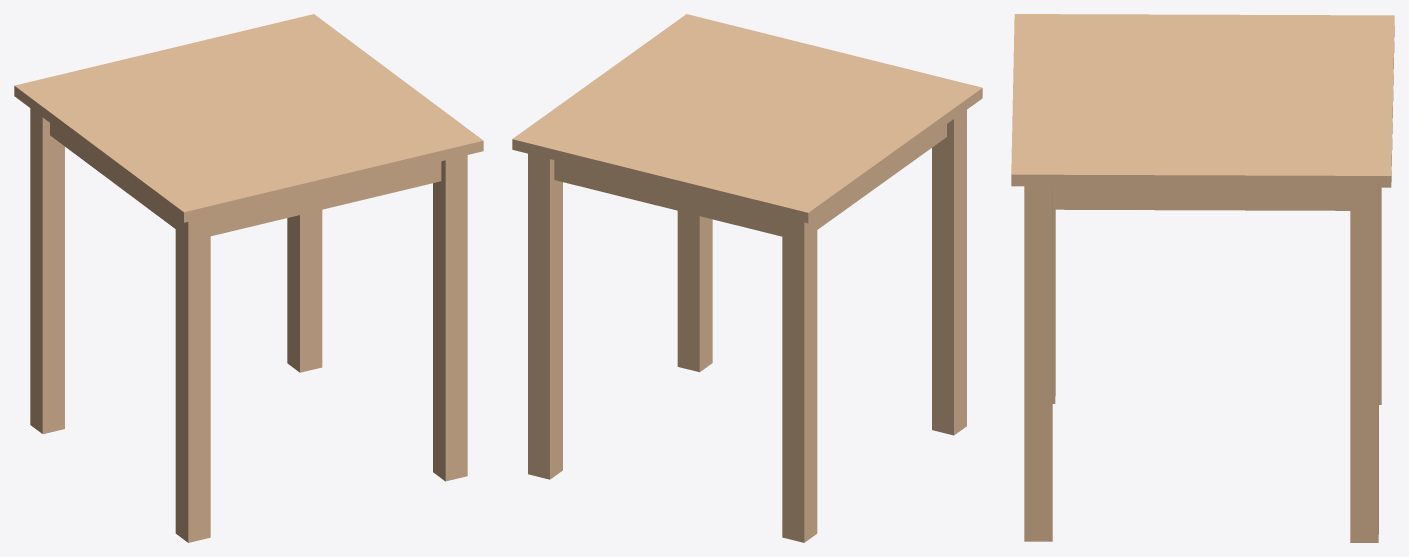
The model's file is DeskT-1.fbx.
The picture shows the model from 3 angles, left to right: view 1: azimuth 30°, elevation 25°; view 2: azimuth 150°, elevation 25°; view 3: azimuth 270°, elevation 25°; orthographic projection. The views are drawn at different scales.
Visible parts, largest first — view 1: Cube.025; view 2: Cube.025; view 3: Cube.025.
Part boxes in pixels (x1,y1,x2,y2): Cube.025: (14, 14, 483, 542); Cube.025: (512, 14, 982, 542); Cube.025: (1011, 14, 1394, 542).
Size of the model in its own units: 74.64 by 80 by 74.64.
